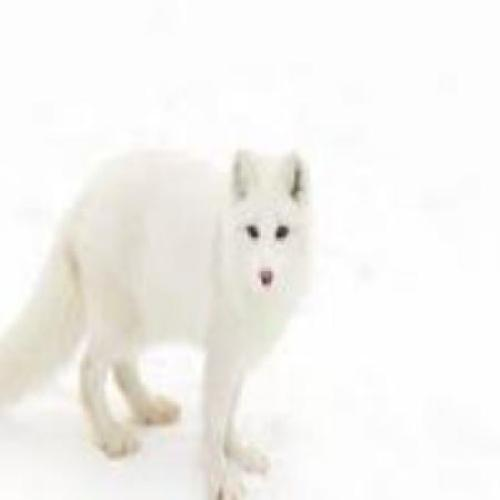arctic_fox-endangered: (0, 146, 307, 496)
